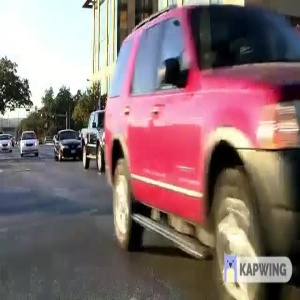car: (45, 122, 87, 168), (17, 127, 42, 161), (1, 131, 16, 155)
suv: (107, 5, 300, 289)
